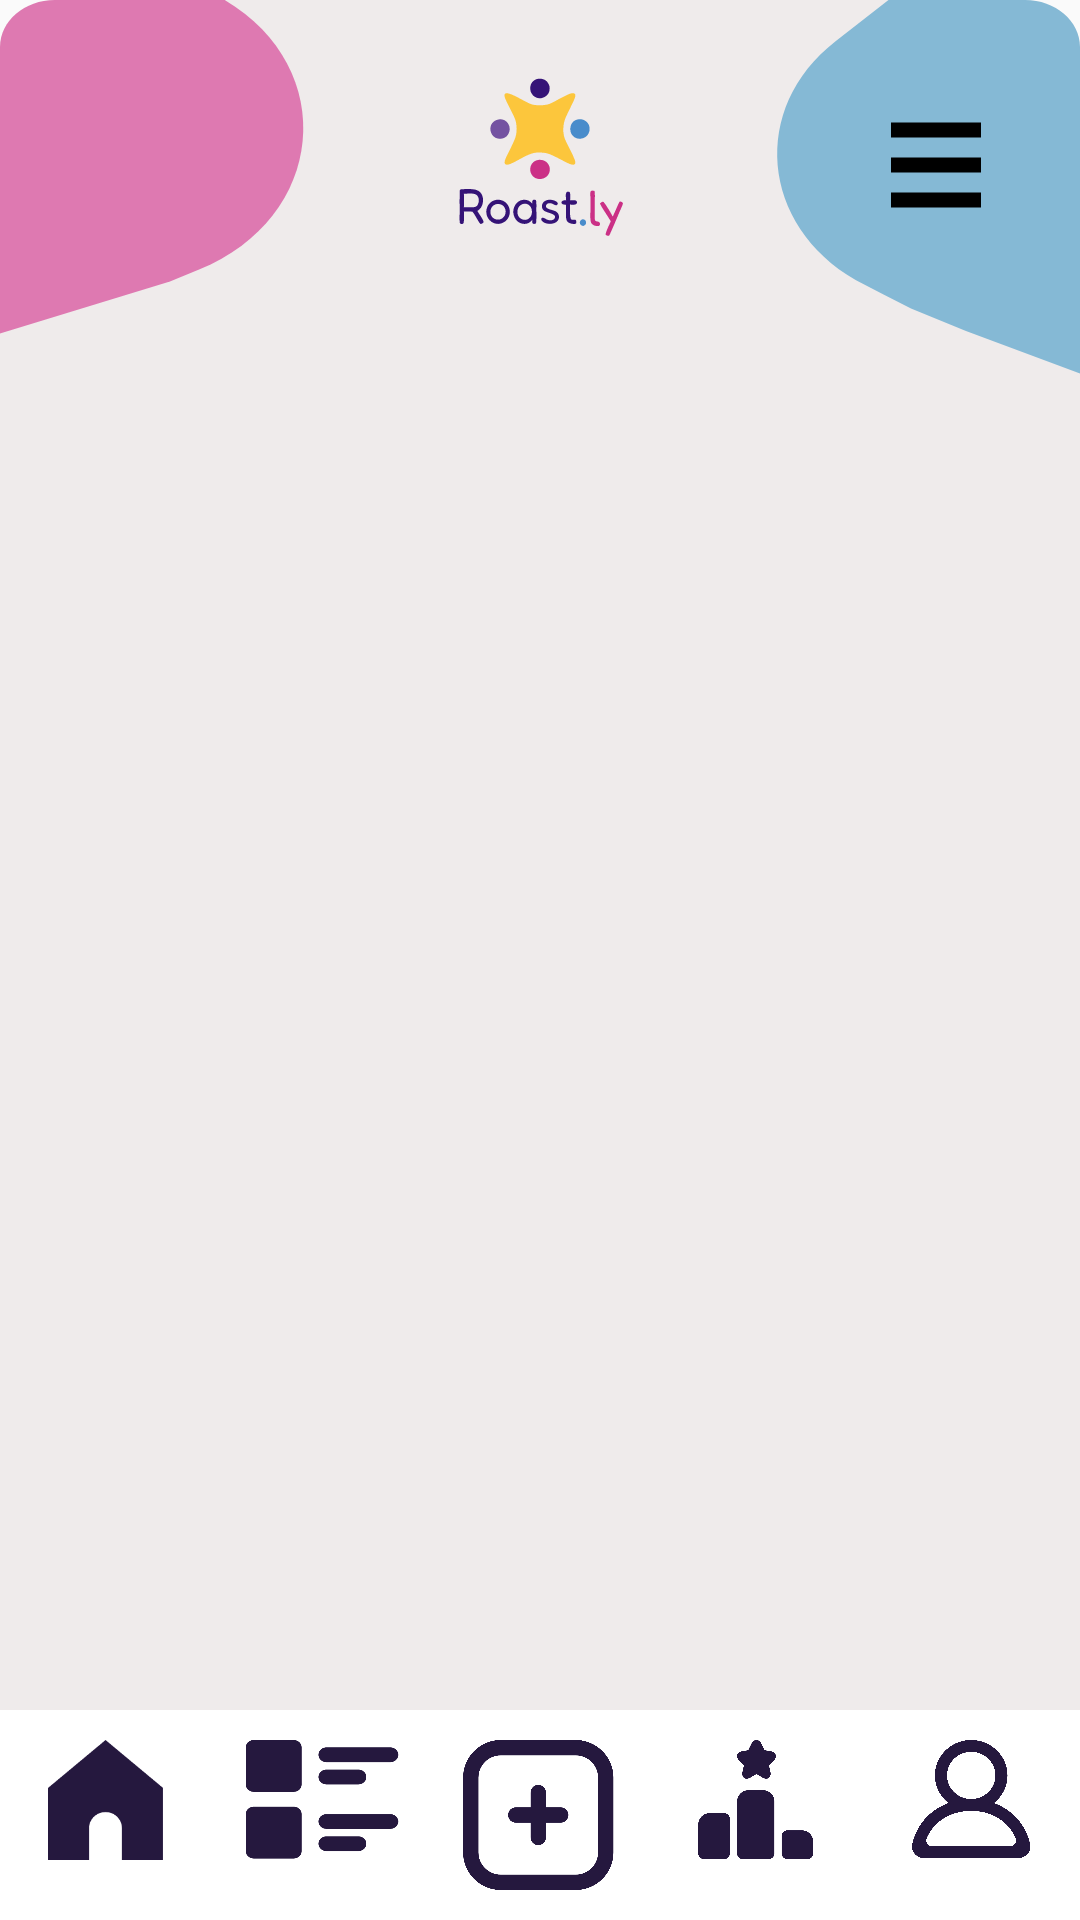

Where to tap for icons on this 1080px x 1920px app screen, as [x,y]:
Add: [538,1815]
Feed: [322,1799]
Home: [105,1800]
menu icon: [936,165]
Profile: [971,1799]
Ranking: [755,1799]
